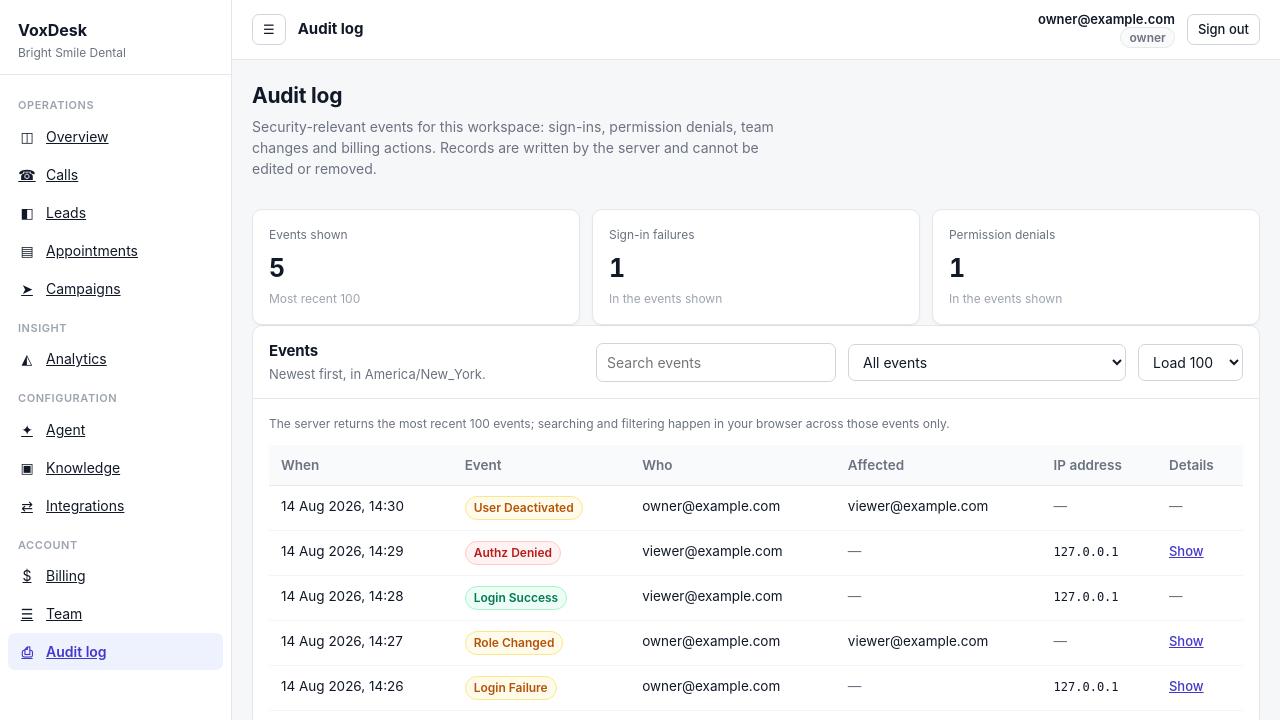
it: details › renders a list-valued detail such as authz_denied.missing
Expected: the heading "Audit log" is shown, top-left (252, 83), bottom-right (342, 108)
Expected: the text "Role Changed" is shown, top-left (465, 631), bottom-right (564, 655)
Click the button "Show" in the row of "14 Aug 2026, 14:29" at x=1186, y=552, box top-left (1169, 542), bottom-right (1204, 562)
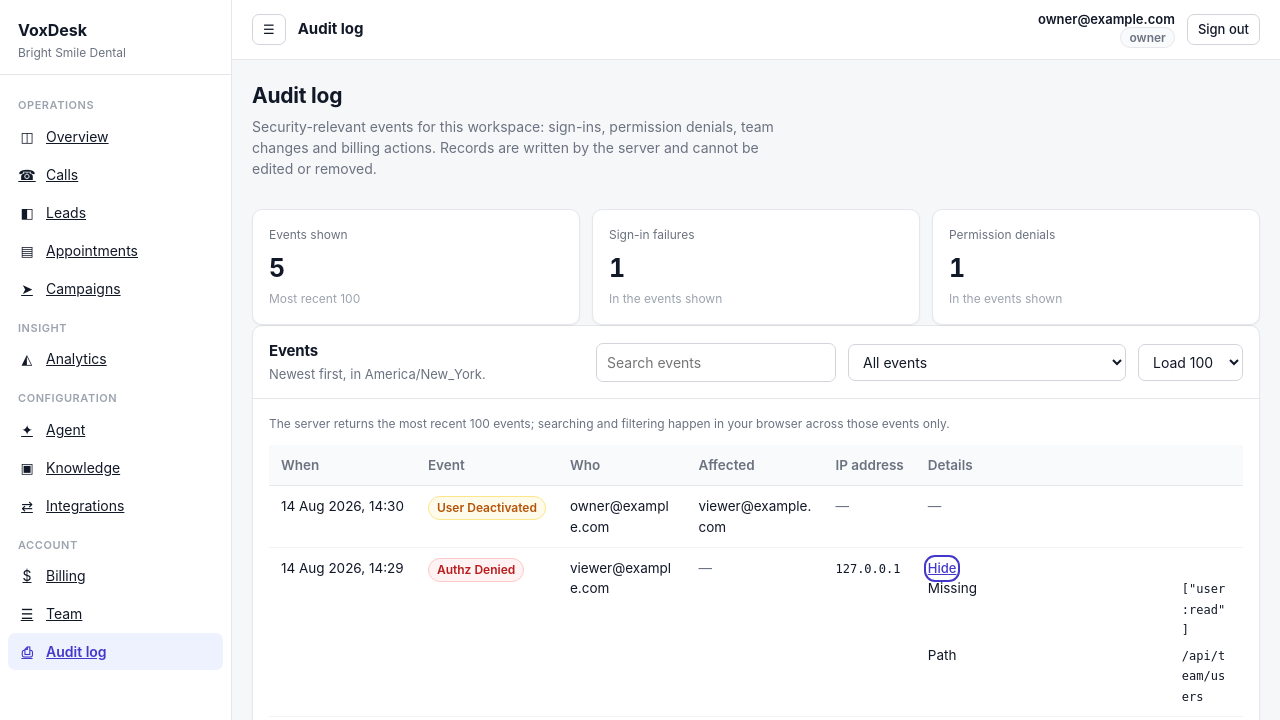
Expected: the text "Missing" is shown, top-left (928, 580), bottom-right (977, 596)
Expected: the text "[\"user:read\"]" is shown, top-left (1182, 582), bottom-right (1225, 637)
Expected: the text "/api/team/users" is shown, top-left (1182, 649), bottom-right (1225, 704)
